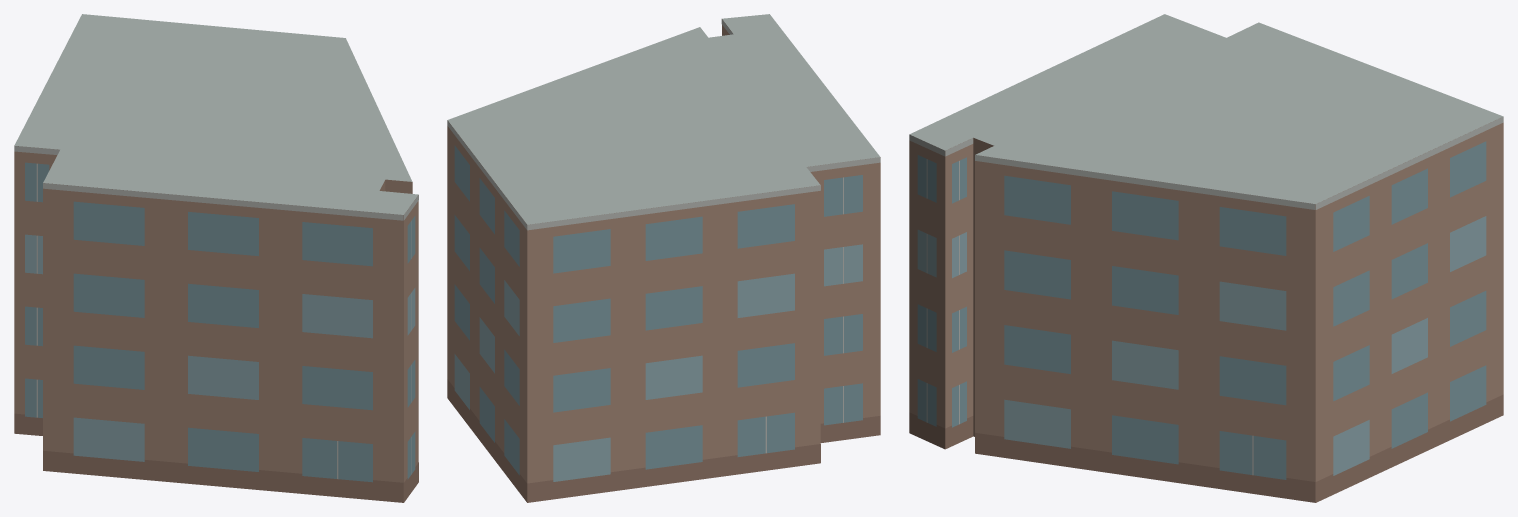
The model's file is survey-upis-32826581.glb.
3 renders of one model, left to right at view 1: azimuth 30°, elevation 25°; view 2: azimuth 150°, elevation 25°; view 3: azimuth 270°, elevation 25°, orthographic. The views are drawn at different scales.
Visible parts, largest first — view 1: survey-upis-32826581.tmp; view 2: survey-upis-32826581.tmp; view 3: survey-upis-32826581.tmp.
Boxes of the visible parts, <box> form: survey-upis-32826581.tmp: <box>14,14,418,502</box>; survey-upis-32826581.tmp: <box>447,14,880,502</box>; survey-upis-32826581.tmp: <box>909,14,1503,502</box>.
Bounding box in the file's own units: 16.67 × 12.2 × 22.01.
